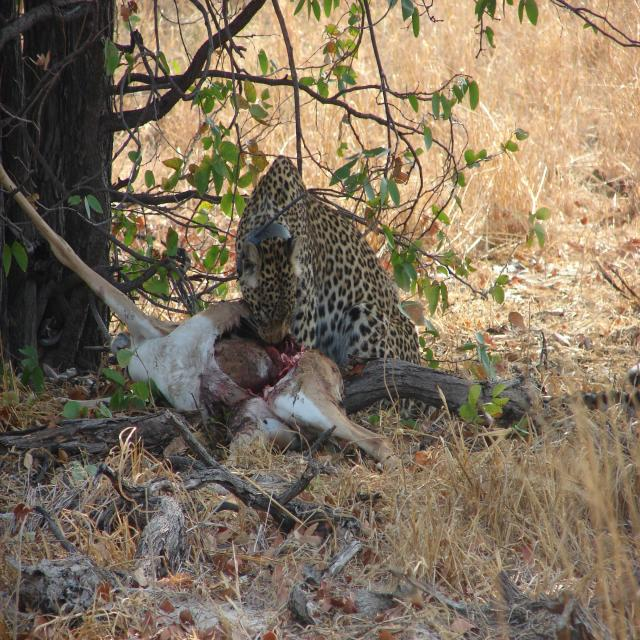Leopard: (232, 168, 425, 417)
